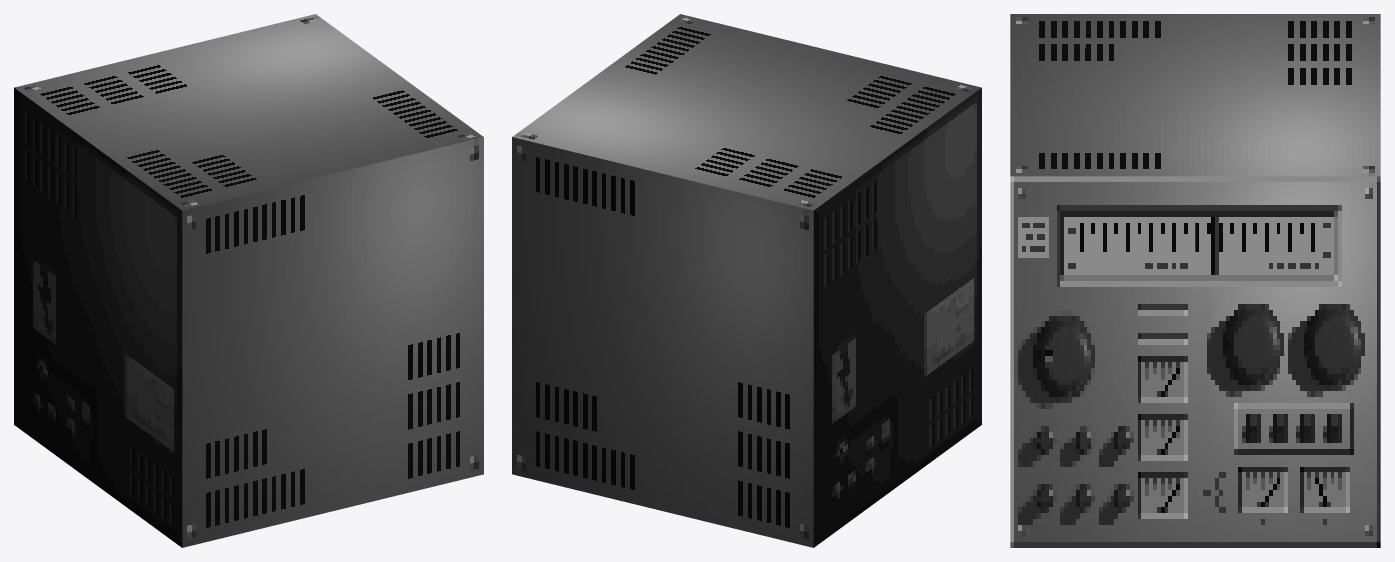
File: primary_092.glb
3 views of the same model, side by side, from view 1: azimuth 30°, elevation 25°; view 2: azimuth 150°, elevation 25°; view 3: azimuth 270°, elevation 25° (orthographic). The views are drawn at different scales.
Parts seen in each view (by area): view 1: Object; view 2: Object; view 3: Object.
Part boxes in pixels (x1,y1,x2,y2): Object: [14, 14, 483, 547]; Object: [512, 14, 981, 547]; Object: [1010, 14, 1380, 547].
Size of the model in its own units: 0.733 by 0.7834 by 0.7077.
6 materials, 6 textured.
